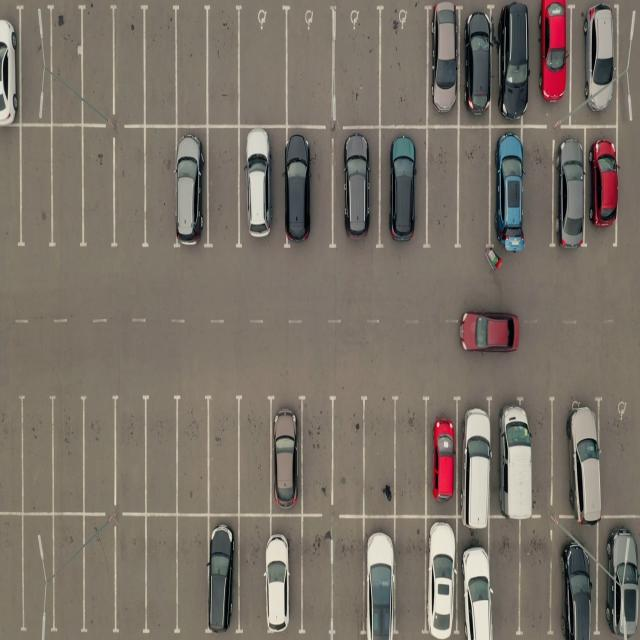space-empty: (238, 8, 289, 126), (378, 6, 426, 127), (288, 10, 338, 126), (334, 8, 381, 126), (45, 516, 87, 633), (46, 5, 86, 126), (14, 127, 53, 250), (142, 5, 180, 127), (49, 127, 86, 250), (113, 5, 150, 126), (78, 398, 116, 515), (205, 128, 242, 248), (78, 131, 115, 251), (112, 130, 149, 250), (458, 128, 494, 251), (143, 396, 181, 512), (602, 402, 640, 518), (238, 396, 276, 512), (205, 7, 242, 126), (79, 515, 116, 633), (17, 514, 54, 632), (176, 7, 212, 128), (393, 399, 430, 516), (331, 520, 368, 637), (141, 130, 177, 250), (78, 4, 114, 124), (50, 399, 87, 515), (177, 397, 214, 512), (115, 396, 152, 511), (330, 397, 367, 511), (142, 517, 178, 633), (17, 399, 53, 515), (360, 398, 396, 514), (520, 522, 556, 637), (236, 516, 271, 634), (424, 126, 458, 246), (395, 518, 429, 638), (297, 519, 332, 635), (205, 397, 240, 511), (116, 516, 150, 633), (177, 517, 211, 633), (298, 398, 333, 510), (14, 8, 48, 123), (524, 126, 555, 248), (488, 518, 520, 636), (0, 515, 24, 635), (0, 396, 24, 515), (0, 127, 22, 250)
space-occupied: (489, 128, 548, 252), (282, 130, 332, 250), (492, 397, 540, 520), (553, 394, 600, 518), (240, 128, 286, 249), (333, 130, 379, 248), (382, 125, 428, 243), (575, 1, 618, 122), (459, 395, 498, 517), (552, 533, 595, 639), (535, 0, 572, 122), (263, 513, 300, 634), (603, 519, 640, 637), (494, 4, 530, 122), (426, 5, 461, 126), (459, 518, 494, 639), (176, 130, 211, 250), (424, 396, 459, 516), (424, 518, 458, 637), (362, 516, 395, 638), (268, 396, 303, 510), (554, 129, 588, 246), (464, 8, 496, 124), (207, 515, 238, 632), (585, 128, 616, 240), (0, 6, 22, 124)
